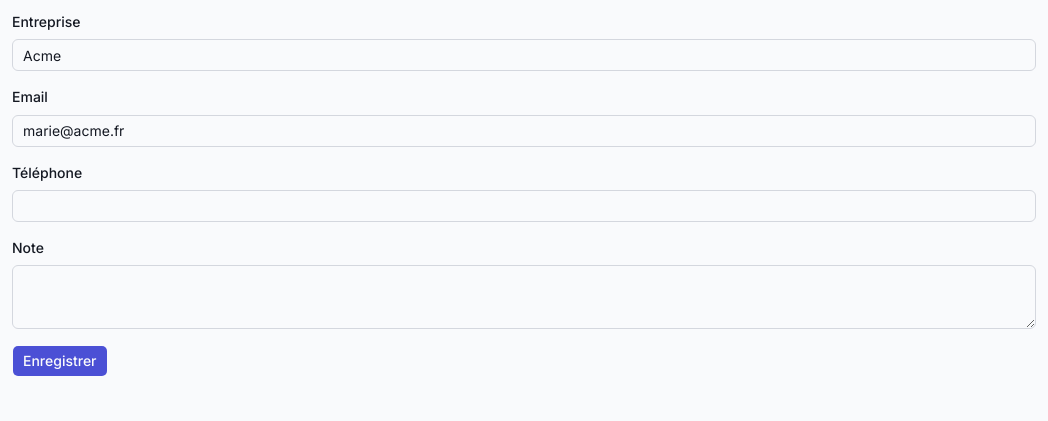
ContactForm › affiche l'erreur d'email et conserve la saisie
This screenshot has width=1048, height=421.
Replace the text in the field labelled "Entreprise" with "Globex" at (524, 55), box [12,39,1036,71]
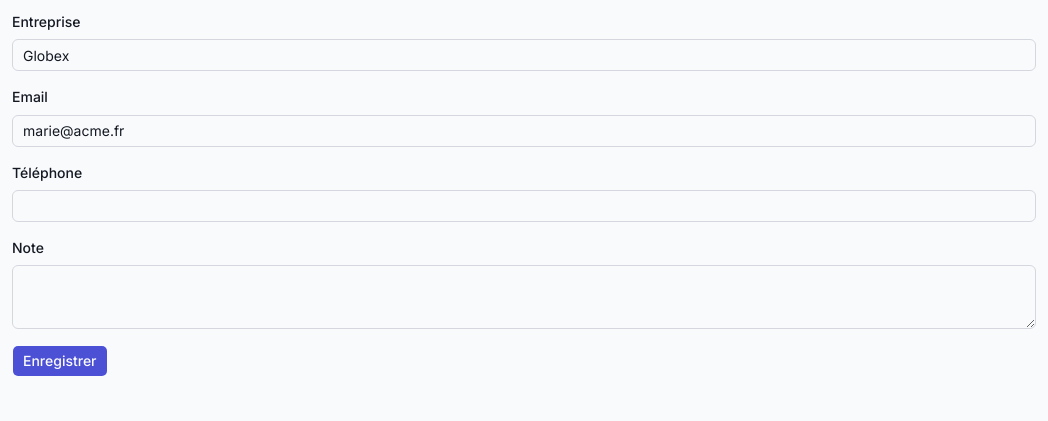
Replace the text in the field labelled "Email" with "marie@" at (524, 130), box [12,114,1036,146]
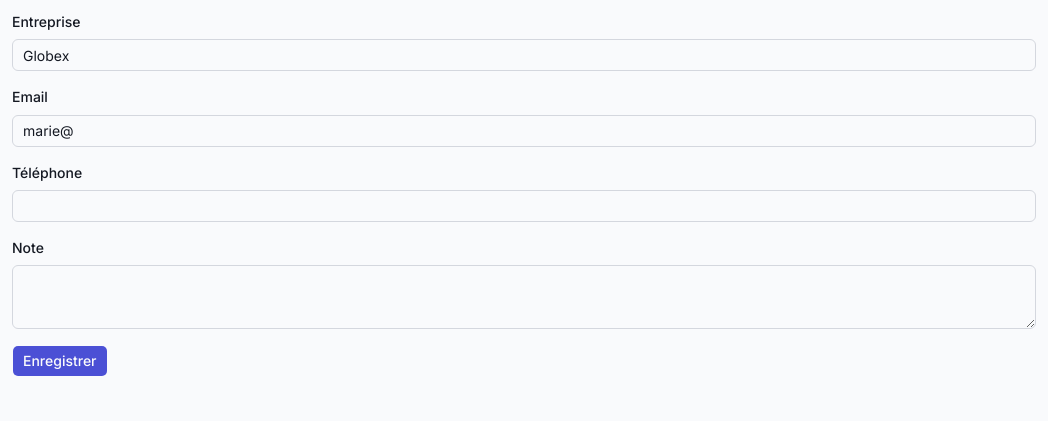
Click the button "Enregistrer" at (60, 361), box [12,345,108,377]
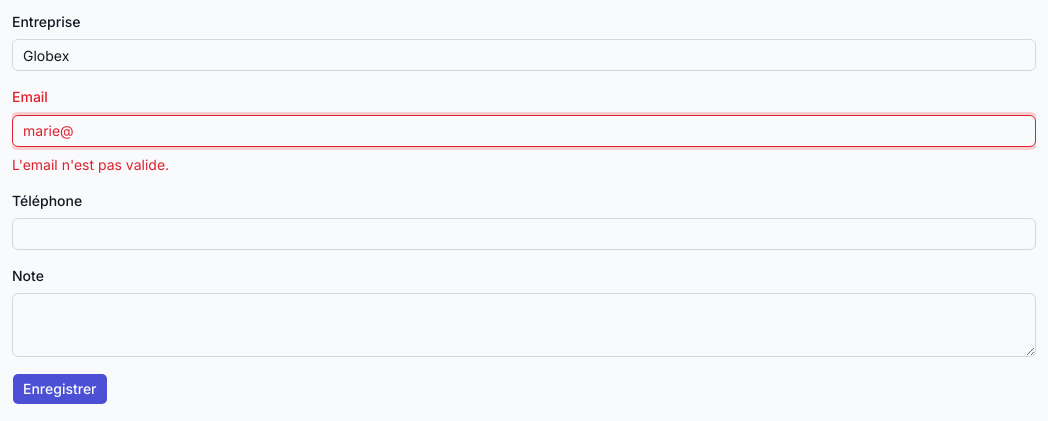
Result: the message reads "L'email n'est pas valide." at [12,156,169,172]
